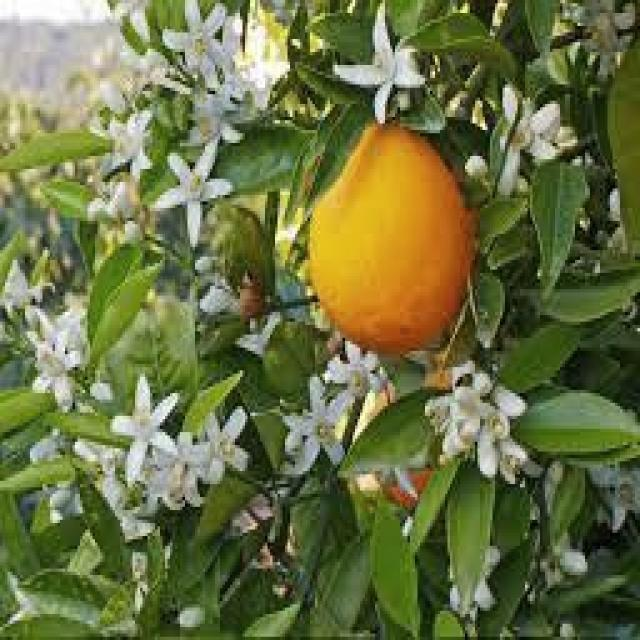Bunga: (332, 6, 422, 117), (155, 140, 233, 247), (112, 374, 178, 484), (282, 373, 350, 478), (498, 88, 560, 192), (162, 0, 235, 75), (320, 338, 385, 410), (180, 81, 245, 153), (155, 432, 213, 510), (562, 0, 635, 58), (32, 334, 82, 412), (202, 406, 250, 484), (477, 419, 525, 484), (102, 110, 152, 172), (490, 383, 528, 416), (558, 549, 590, 578), (452, 383, 478, 412), (464, 153, 488, 182)
Jeruk Sudah Matang: (308, 123, 472, 354)
